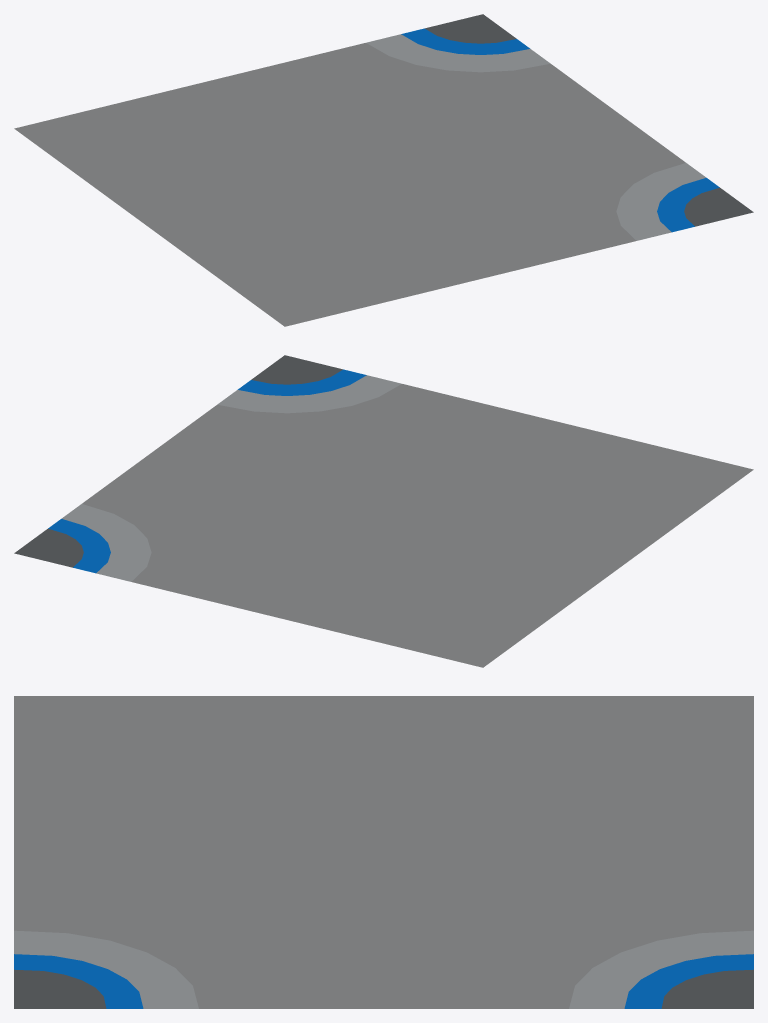
The model's file is Ceiling_type_B_038.fbx.
3 renders of one model, top to bottom at view 1: azimuth 30°, elevation 25°; view 2: azimuth 150°, elevation 25°; view 3: azimuth 270°, elevation 25°, orthographic. The views are drawn at different scales.
Parts seen in each view (by area): view 1: Ceiling_type_B_038; view 2: Ceiling_type_B_038; view 3: Ceiling_type_B_038.
Part boxes in pixels (bbox=[...]): Ceiling_type_B_038: bbox=[14, 14, 753, 326]; Ceiling_type_B_038: bbox=[14, 355, 753, 667]; Ceiling_type_B_038: bbox=[14, 696, 753, 1008].
Bounding box in the file's own units: 400 × 400 × 1.2.
